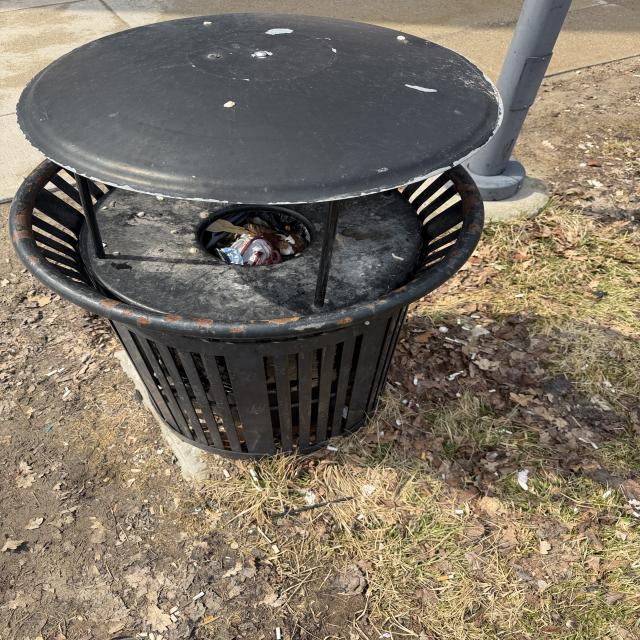Dustbin: (8, 15, 505, 464)
